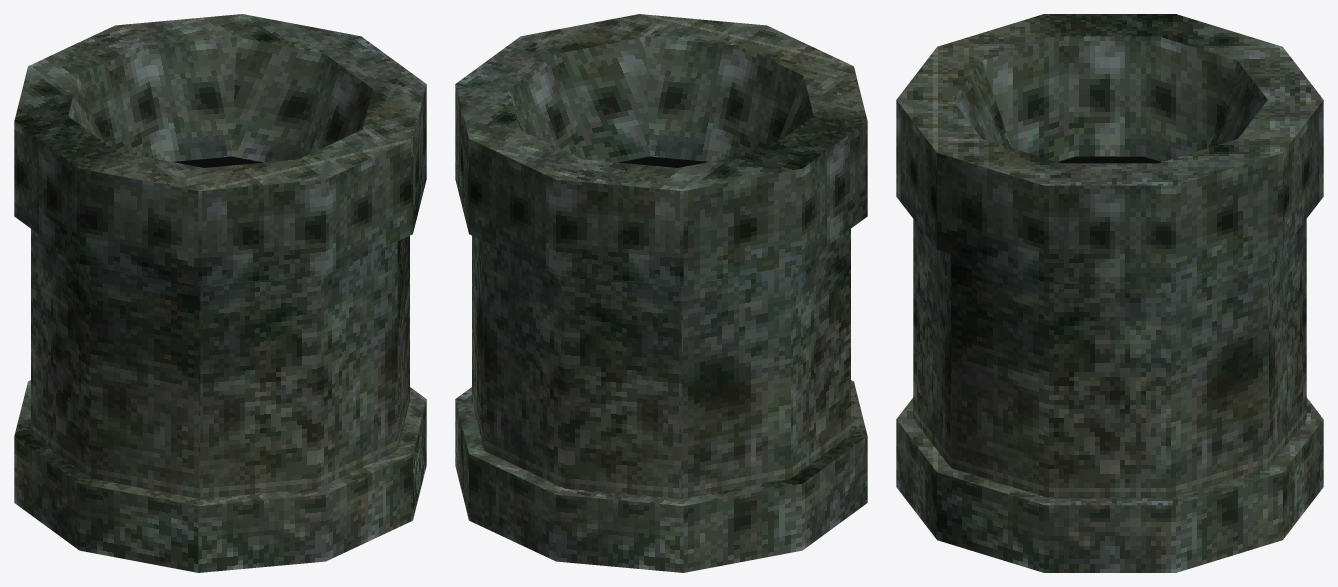
Rendered from BigPipe2.glb.
3 renders of one model, left to right at view 1: azimuth 30°, elevation 25°; view 2: azimuth 150°, elevation 25°; view 3: azimuth 270°, elevation 25°, orthographic.
Parts seen in each view (by area): view 1: Cylinder; view 2: Cylinder; view 3: Cylinder.
Boxes of the visible parts, x1,y1,x2,y2 form: Cylinder: (14,14,426,572); Cylinder: (455,14,867,572); Cylinder: (896,14,1323,572).
Size of the model in its own units: 1.9 by 2 by 2.
2 materials, 1 textured.
